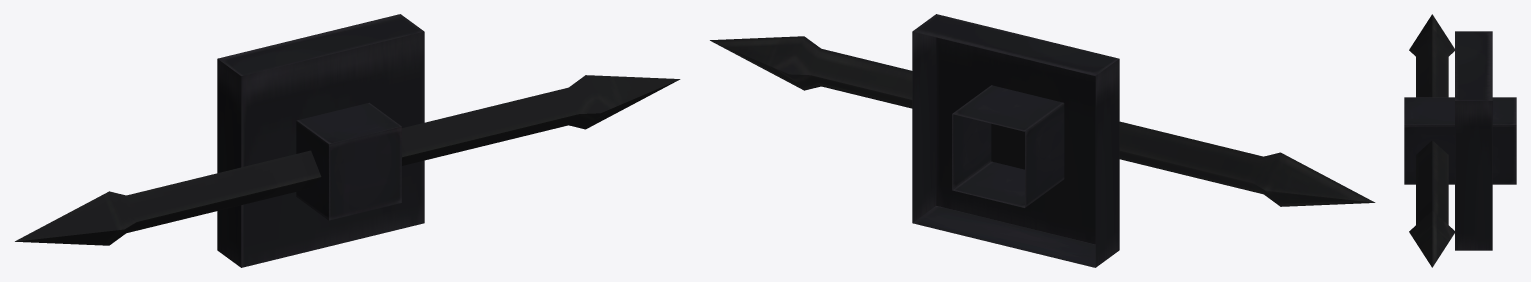
The model's file is flag005_01.FBX.
3 views of the same model, side by side, from view 1: azimuth 30°, elevation 25°; view 2: azimuth 150°, elevation 25°; view 3: azimuth 270°, elevation 25° (orthographic). The views are drawn at different scales.
Visible parts, largest first — view 1: flag005_01; view 2: flag005_01; view 3: flag005_01.
Boxes of the visible parts, bbox=[...] form: flag005_01: bbox=[15, 14, 680, 267]; flag005_01: bbox=[710, 14, 1375, 267]; flag005_01: bbox=[1404, 14, 1516, 267].
Bounding box in the file's own units: 328 × 90 × 61.3.
1 material, 1 textured.
